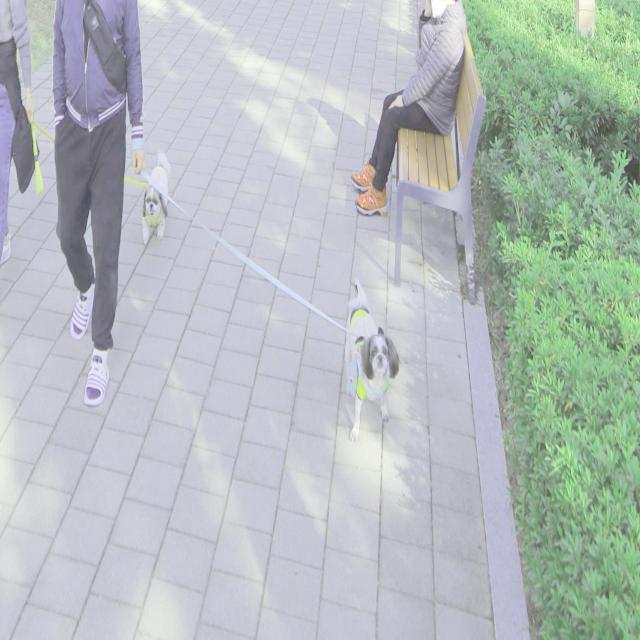Leashed_Dog: (84, 117, 399, 443), (1, 86, 170, 243)
